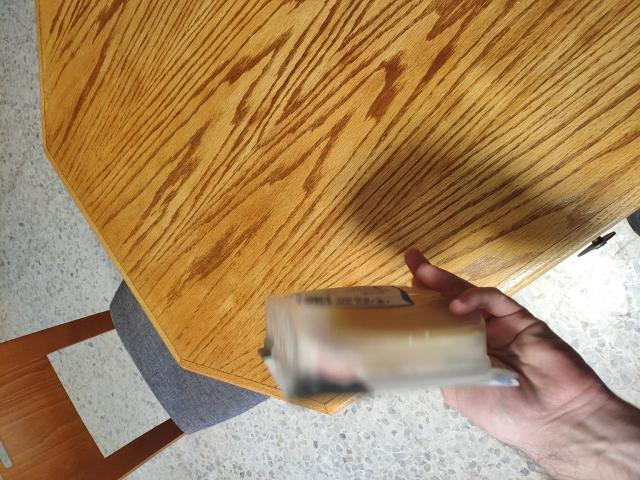cheese: (268, 258, 493, 423)
